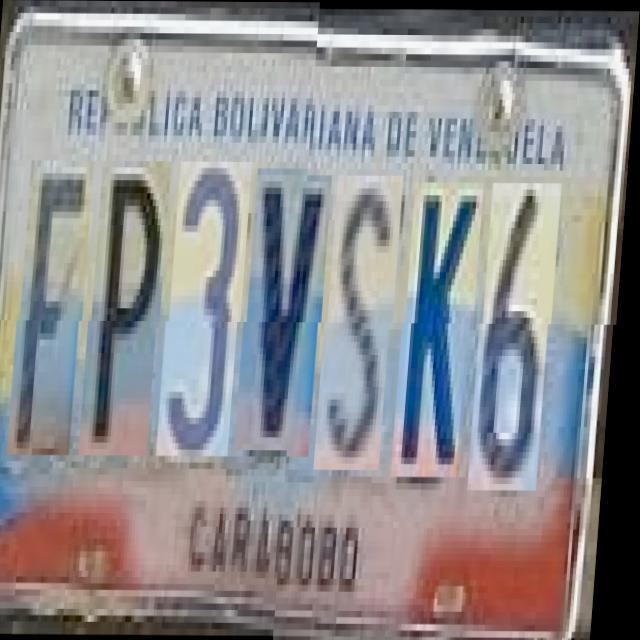3: (166, 168, 254, 462)
6: (478, 182, 564, 490)
F: (16, 166, 96, 462)
K: (401, 182, 487, 476)
P: (88, 167, 174, 462)
S: (324, 175, 406, 470)
V: (243, 175, 334, 456)
